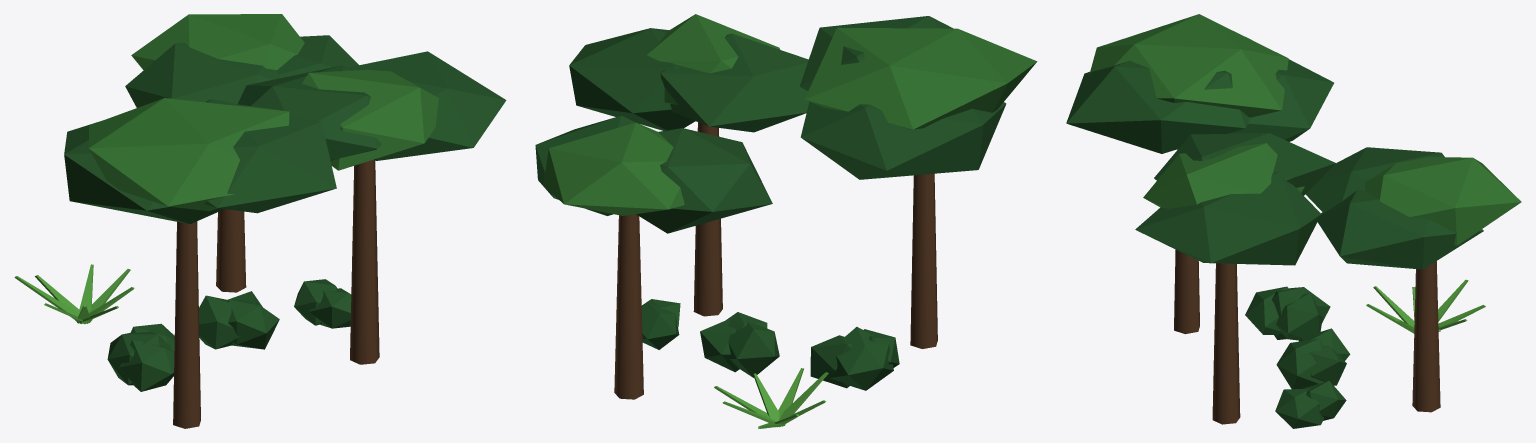
Rendered from sawyer_jungle_thicket_e.glb.
3 views of the same model, side by side, from view 1: azimuth 30°, elevation 25°; view 2: azimuth 150°, elevation 25°; view 3: azimuth 270°, elevation 25° (orthographic). The views are drawn at different scales.
Visible parts, largest first — view 1: broadleaf_2_crown0, broadleaf_2_crown2, broadleaf_0_crown0, broadleaf_0_crown2, broadleaf_1_crown0, broadleaf_1_crown2, broadleaf_0_crown1, broadleaf_0_trunk, broadleaf_2_trunk, broadleaf_2_crown1, broadleaf_1_trunk, jbush_3_leaves1 (+7 smaller); view 2: broadleaf_2_crown0, broadleaf_2_crown1, broadleaf_1_crown0, broadleaf_0_crown1, broadleaf_1_crown2, broadleaf_0_crown2, broadleaf_1_trunk, broadleaf_2_trunk, broadleaf_0_crown0, broadleaf_0_trunk, jbush_3_leaves0, broadleaf_2_crown2 (+6 smaller); view 3: broadleaf_2_crown0, broadleaf_0_crown2, broadleaf_2_crown2, broadleaf_1_crown0, broadleaf_1_crown1, broadleaf_0_crown0, broadleaf_0_trunk, broadleaf_0_crown1, broadleaf_1_trunk, broadleaf_2_crown1, broadleaf_1_crown2, broadleaf_2_trunk (+8 smaller).
Boxes of the visible parts, box(x1,y1,x2,y2) form: broadleaf_2_crown0: box(88, 98, 289, 211); broadleaf_2_crown2: box(204, 99, 336, 213); broadleaf_0_crown0: box(302, 69, 438, 170); broadleaf_0_crown2: box(340, 51, 506, 160); broadleaf_1_crown0: box(131, 14, 304, 70); broadleaf_1_crown2: box(125, 42, 281, 107); broadleaf_0_crown1: box(238, 65, 381, 160); broadleaf_0_trunk: box(350, 159, 379, 364); broadleaf_2_trunk: box(173, 221, 200, 428); broadleaf_2_crown1: box(64, 121, 224, 224); broadleaf_1_trunk: box(216, 209, 246, 292); jbush_3_leaves1: box(119, 339, 174, 391); broadleaf_2_crown0: box(805, 27, 1037, 129); broadleaf_2_crown1: box(800, 102, 1006, 179); broadleaf_1_crown0: box(543, 122, 684, 215); broadleaf_0_crown1: box(660, 33, 809, 132); broadleaf_1_crown2: box(636, 128, 772, 233); broadleaf_0_crown2: box(569, 28, 695, 130); broadleaf_1_trunk: box(614, 214, 643, 399); broadleaf_2_trunk: box(910, 173, 937, 348); broadleaf_0_crown0: box(647, 14, 780, 104); broadleaf_0_trunk: box(693, 122, 722, 316); jbush_3_leaves0: box(829, 327, 893, 390); broadleaf_2_crown2: box(799, 16, 953, 90); broadleaf_2_crown0: box(1089, 14, 1288, 117); broadleaf_0_crown2: box(1135, 171, 1321, 265); broadleaf_2_crown2: box(1066, 60, 1249, 153); broadleaf_1_crown0: box(1365, 157, 1521, 245); broadleaf_1_crown1: box(1317, 190, 1483, 269); broadleaf_0_crown0: box(1143, 143, 1304, 208); broadleaf_0_trunk: box(1212, 263, 1240, 424); broadleaf_0_crown1: box(1154, 133, 1335, 195); broadleaf_1_trunk: box(1412, 261, 1440, 412); broadleaf_2_crown1: box(1229, 37, 1333, 141); broadleaf_1_crown2: box(1305, 147, 1444, 212); broadleaf_2_trunk: box(1174, 149, 1199, 334).
Bounding box in the file's own units: 5.47 × 3.75 × 5.45.
